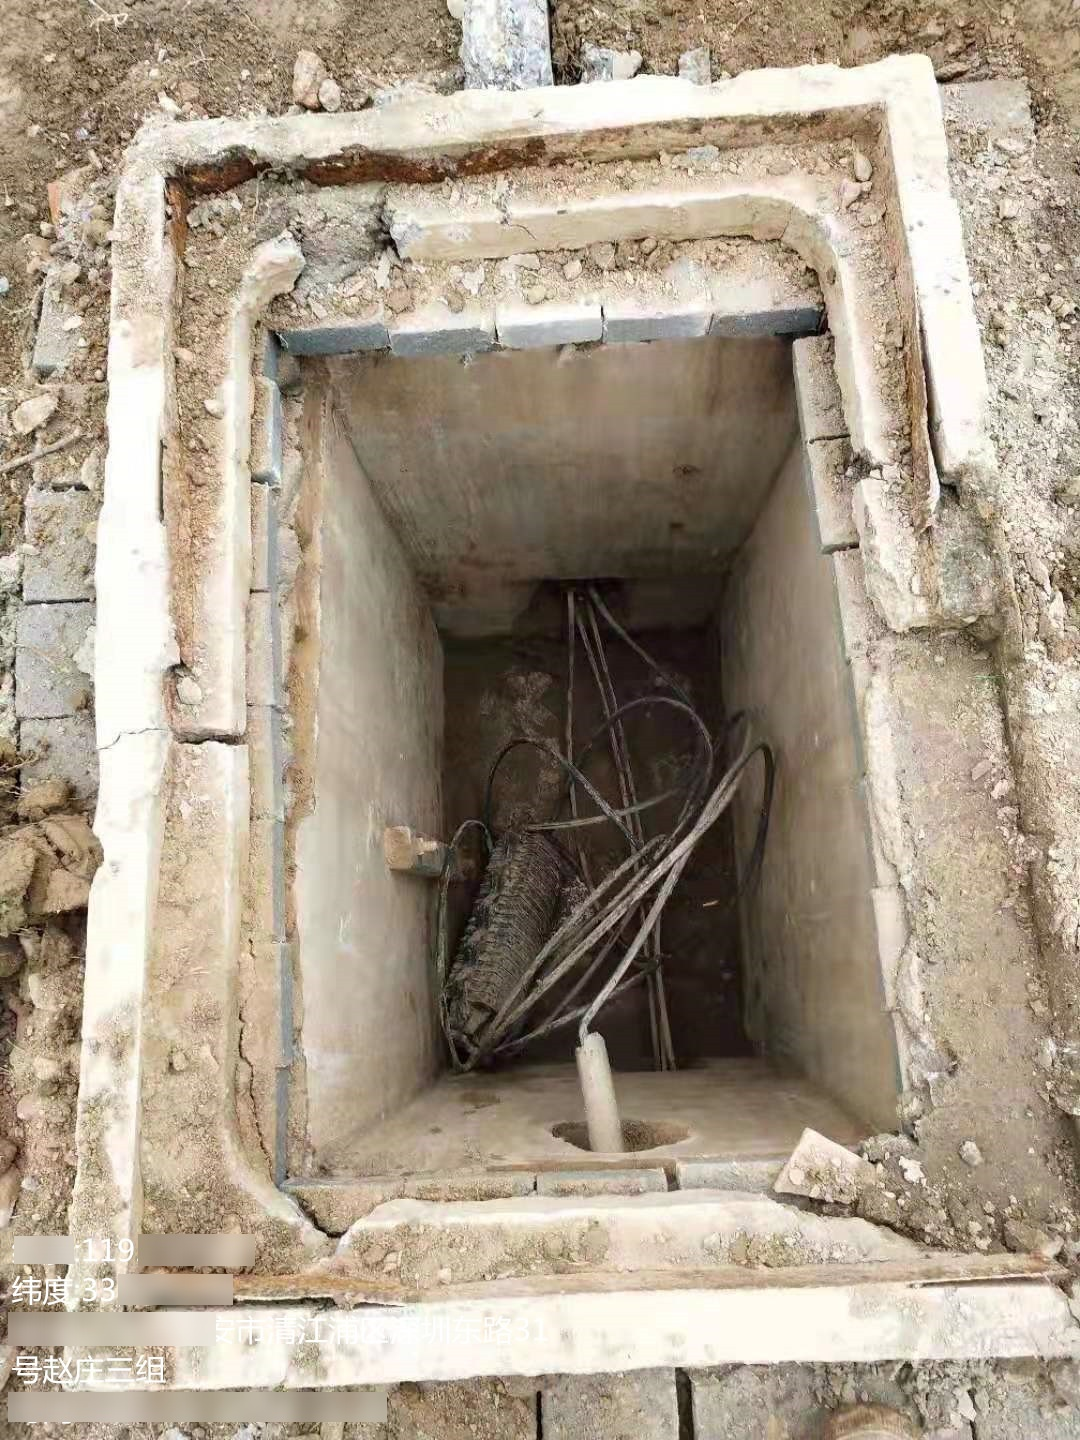lose: (59, 56, 1080, 1398)
